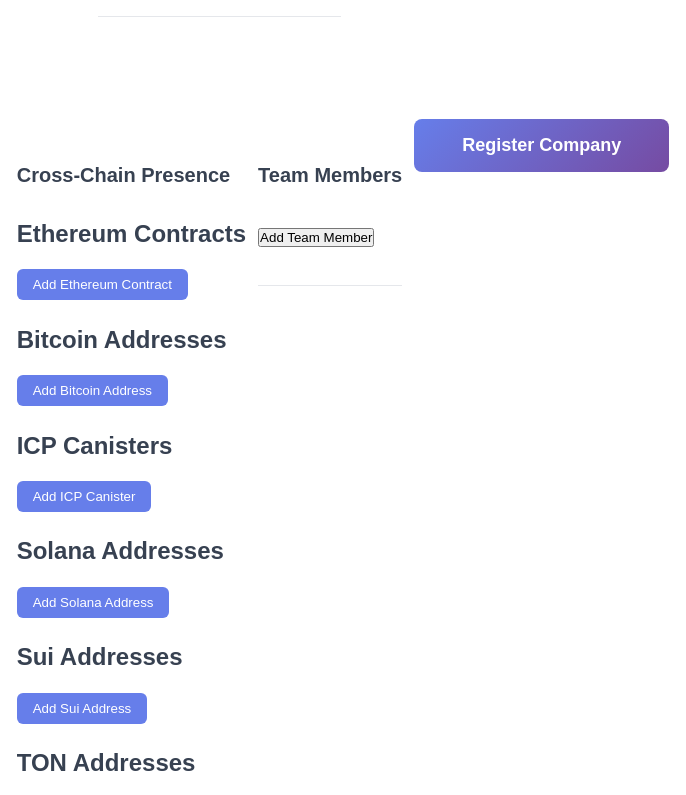
Test: CompanyRegistrationForm › Cross-Chain Address Management › should add Bitcoin address via prompt
(page scrolled)
Step 1. Click the button "Add Bitcoin Address" → (92, 391), box 17,375 -> 168,406
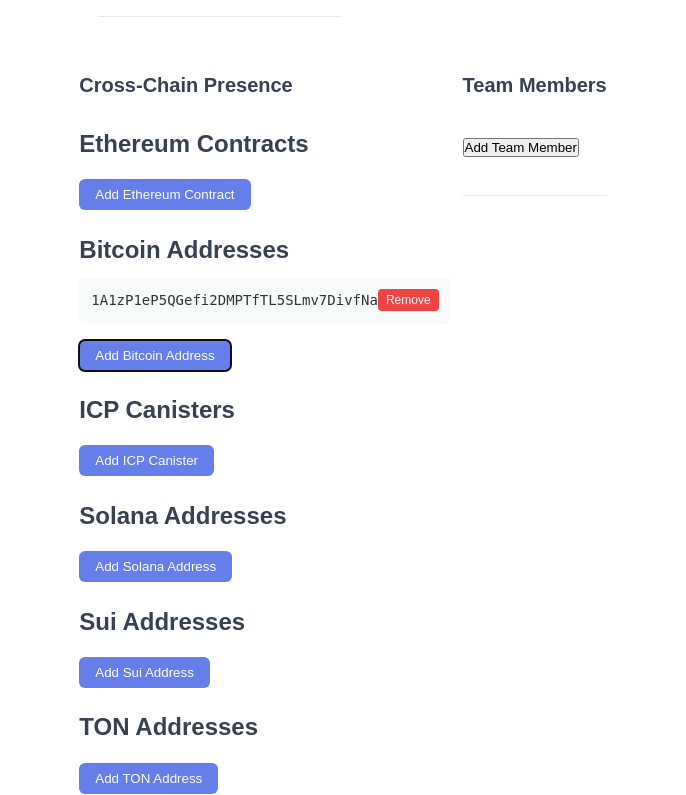
Expected: the text "1A1zP1eP5QGefi2DMPTfTL5SLmv7DivfNa" is shown, 91,289 -> 378,312
